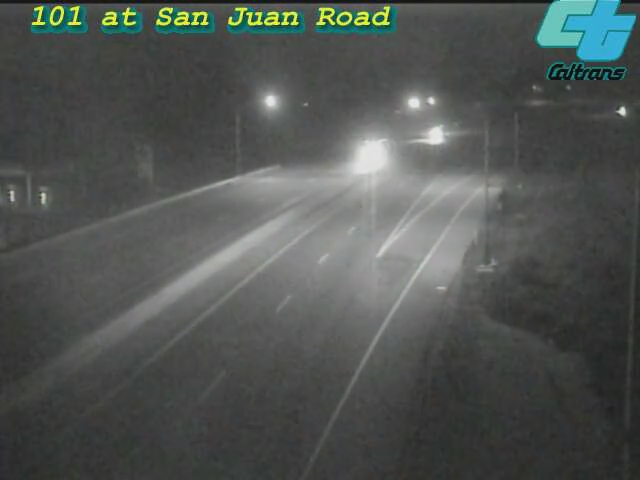vehicle: (345, 127, 395, 177), (415, 110, 465, 160), (598, 87, 640, 137)
